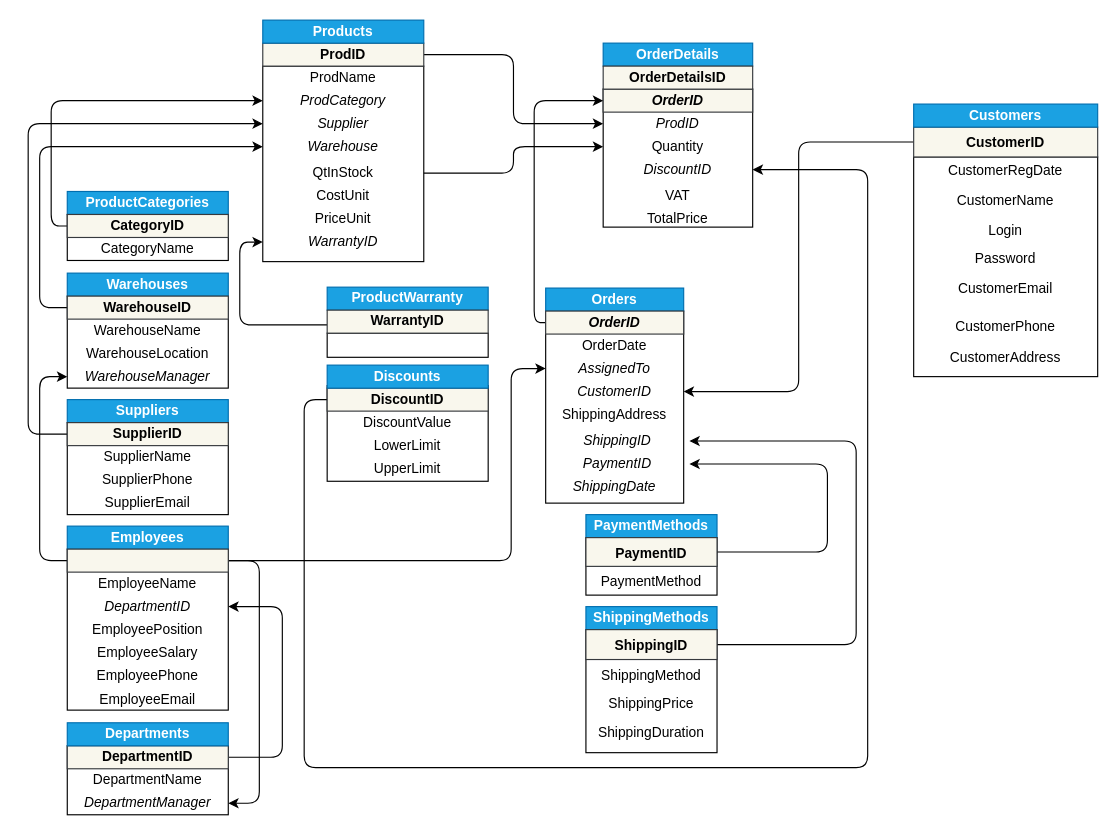
Image size: 1118x835. Some labels were removed from this diagram. Each missing label, with the centre of its shape:
EmployeeID: the point at 147,560
WarrantyPeriod: the point at 407,344
